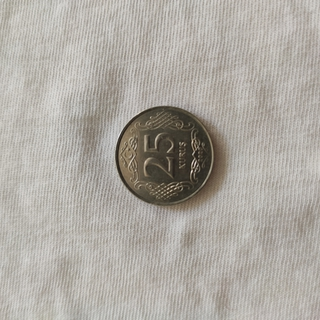25KURUS: (113, 104, 215, 207)
